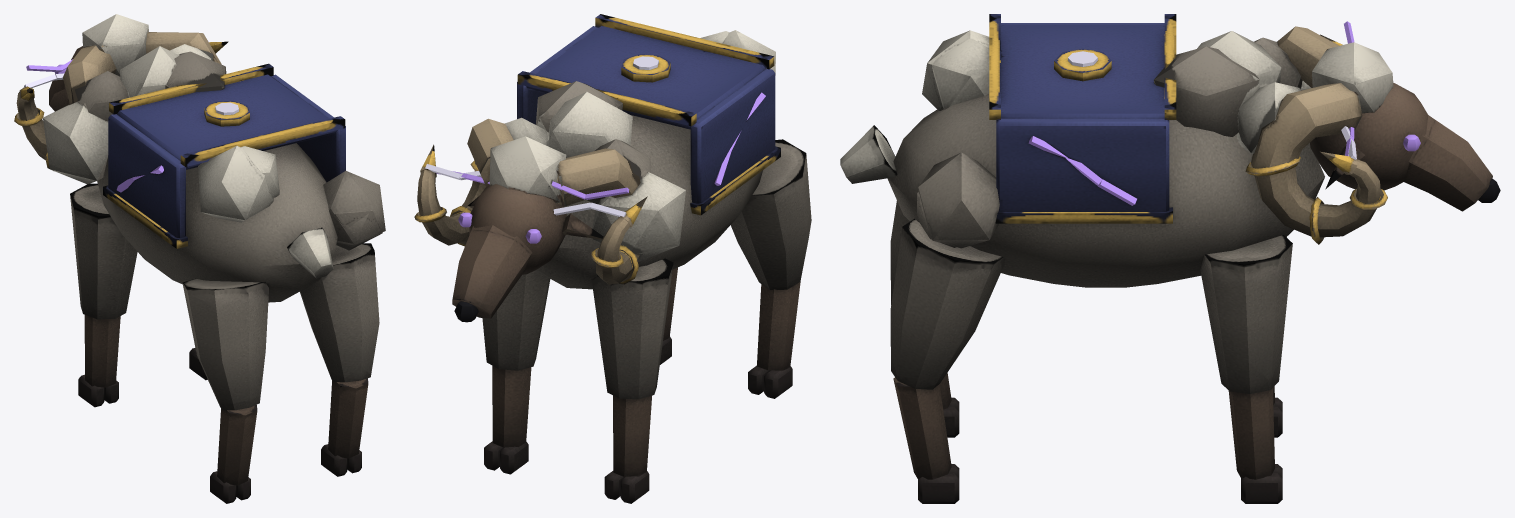
Rendered from alpha_thunder_ram.fbx.
3 views of the same model, side by side, from view 1: azimuth 30°, elevation 25°; view 2: azimuth 150°, elevation 25°; view 3: azimuth 270°, elevation 25° (orthographic). The views are drawn at different scales.
Visible parts, largest first — view 1: Body, Trophy_StormSaddle, LegL, LegR, Head, ArmL, KneeR, KneeL, ForearmL, ExtraTail1; view 2: Trophy_StormSaddle, Head, Body, ArmL, LegL, ArmR, KneeL, ForearmL, ForearmR, Head_Glow_Storm, Head_Glow_Spark, KneeR; view 3: Body, Trophy_StormSaddle, Head, LegR, ArmR, KneeR, ForearmR, ExtraTail1, Trophy_StormSaddle_Glow_Storm, KneeL, LegL.
Part boxes in pixels (x1=…): Body: x1=43, y1=44, x2=385, y2=302; Trophy_StormSaddle: x1=103, y1=63, x2=345, y2=248; LegL: x1=182, y1=278, x2=268, y2=410; LegR: x1=300, y1=243, x2=379, y2=382; Head: x1=14, y1=14, x2=228, y2=168; ArmL: x1=70, y1=183, x2=137, y2=319; KneeR: x1=321, y1=378, x2=368, y2=476; KneeL: x1=210, y1=405, x2=257, y2=503; ForearmL: x1=78, y1=315, x2=120, y2=407; ExtraTail1: x1=287, y1=227, x2=333, y2=278; Trophy_StormSaddle: x1=517, y1=14, x2=780, y2=215; Head: x1=414, y1=118, x2=647, y2=322; Body: x1=505, y1=30, x2=775, y2=289; ArmL: x1=592, y1=258, x2=673, y2=399; LegL: x1=730, y1=139, x2=811, y2=289; ArmR: x1=482, y1=270, x2=550, y2=370; KneeL: x1=748, y1=281, x2=800, y2=398; ForearmL: x1=604, y1=395, x2=651, y2=503; ForearmR: x1=484, y1=366, x2=531, y2=474; Head_Glow_Storm: x1=436, y1=171, x2=629, y2=243; Head_Glow_Spark: x1=425, y1=164, x2=626, y2=216; KneeR: x1=660, y1=267, x2=677, y2=364; Body: x1=887, y1=30, x2=1324, y2=287; Trophy_StormSaddle: x1=989, y1=14, x2=1176, y2=223; Head: x1=1245, y1=26, x2=1500, y2=244; LegR: x1=890, y1=218, x2=1003, y2=389; ArmR: x1=1200, y1=235, x2=1292, y2=393; KneeR: x1=893, y1=377, x2=959, y2=503; ForearmR: x1=1228, y1=388, x2=1282, y2=503; ExtraTail1: x1=840, y1=125, x2=897, y2=183; Trophy_StormSaddle_Glow_Storm: x1=1028, y1=136, x2=1136, y2=205; KneeL: x1=939, y1=373, x2=959, y2=437; LegL: x1=890, y1=201, x2=909, y2=304.
Bounding box in the file's own units: 318 × 514 × 715.
3 materials, 1 textured.
